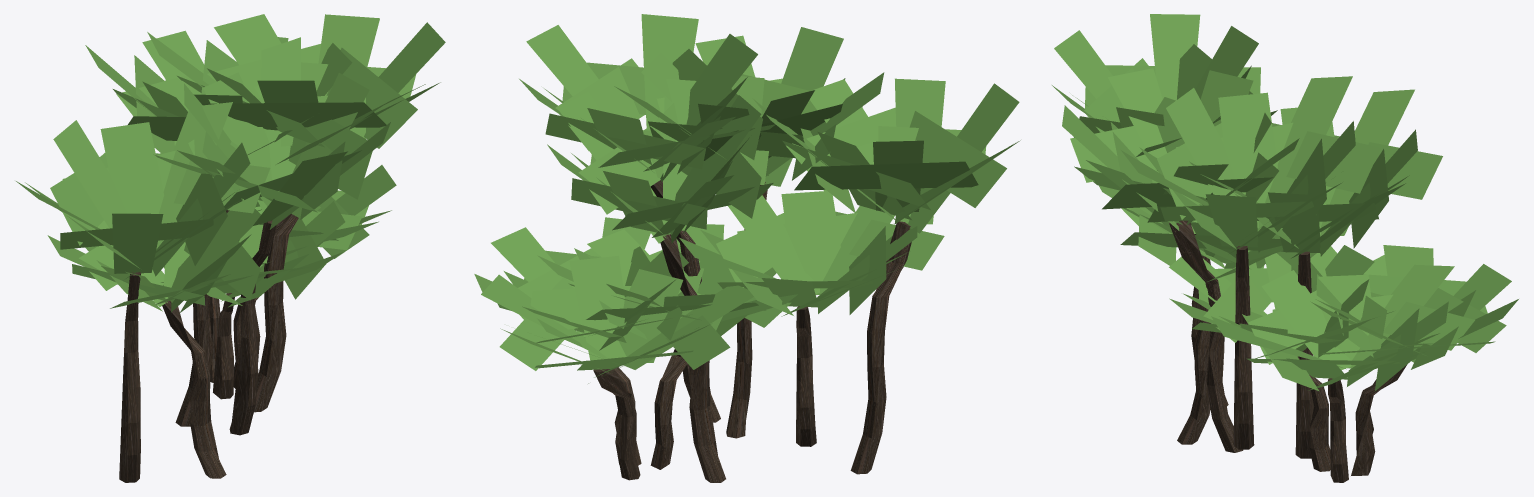
File: jungle_medium.glb
The picture shows the model from 3 angles, left to right: view 1: azimuth 30°, elevation 25°; view 2: azimuth 150°, elevation 25°; view 3: azimuth 270°, elevation 25°; orthographic projection.
Visible parts, largest first — view 1: jungle_medium; view 2: jungle_medium; view 3: jungle_medium.
Boxes of the visible parts, x1,y1,x2,y2 form: jungle_medium: (16, 14, 445, 482); jungle_medium: (474, 14, 1020, 482); jungle_medium: (1052, 14, 1518, 482).
Bounding box in the file's own units: 5.48 × 4.5 × 5.11.
16 materials, 8 textured.
